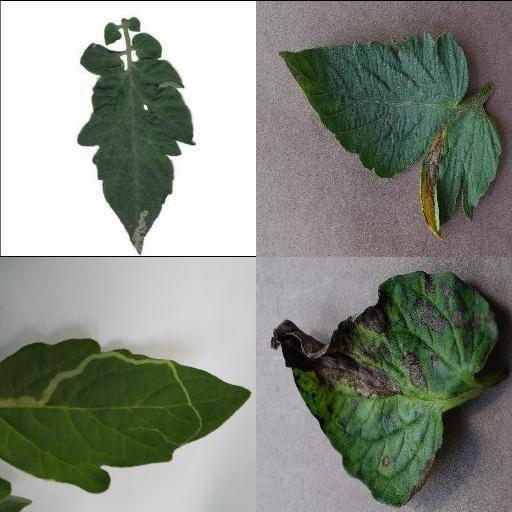Early Blight: (271, 267, 501, 502), (280, 28, 502, 242)
Leaf Miner: (0, 335, 251, 495), (73, 56, 195, 255)
